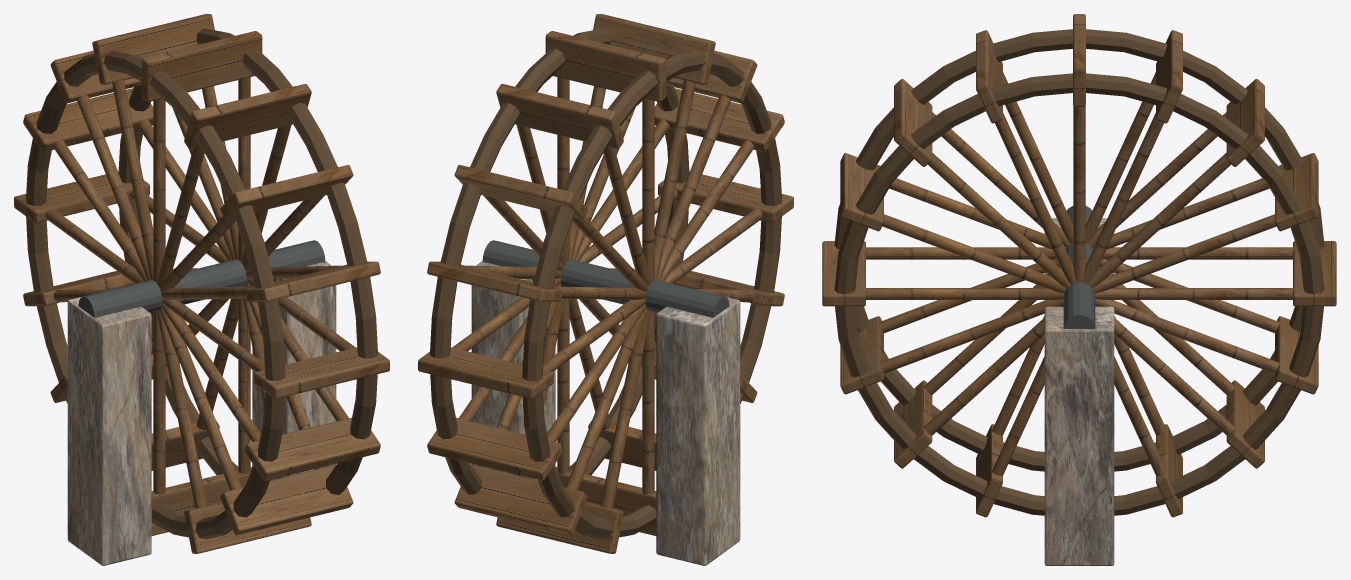
The model's file is waterwheel.glb.
3 views of the same model, side by side, from view 1: azimuth 30°, elevation 25°; view 2: azimuth 150°, elevation 25°; view 3: azimuth 270°, elevation 25° (orthographic). The views are drawn at different scales.
Visible parts, largest first — view 1: water paddle, wheel ring, stone bearing, axle; view 2: water paddle, wheel ring, stone bearing, axle; view 3: water paddle, wheel ring, stone bearing, axle.
Boxes of the visible parts, left/top/right/bottom form: water paddle: left=14, top=14, right=389, bottom=553; wheel ring: left=26, top=28, right=377, bottom=539; stone bearing: left=67, top=261, right=336, bottom=565; axle: left=78, top=240, right=325, bottom=317; water paddle: left=418, top=14, right=793, bottom=553; wheel ring: left=430, top=28, right=781, bottom=539; stone bearing: left=471, top=261, right=740, bottom=565; axle: left=482, top=240, right=729, bottom=317; water paddle: left=822, top=14, right=1336, bottom=517; wheel ring: left=834, top=29, right=1324, bottom=515; stone bearing: left=1044, top=218, right=1114, bottom=565; axle: left=1063, top=206, right=1095, bottom=328.
Bounding box in the file's own units: 3.05 × 5.95 × 5.9.
4 materials, 2 textured.
